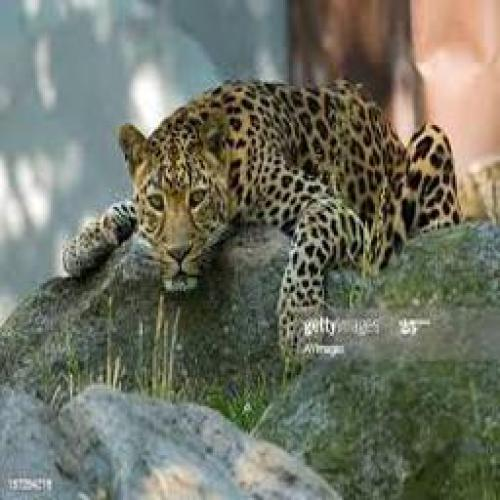amur_leopard-endangered: (71, 76, 459, 283)
